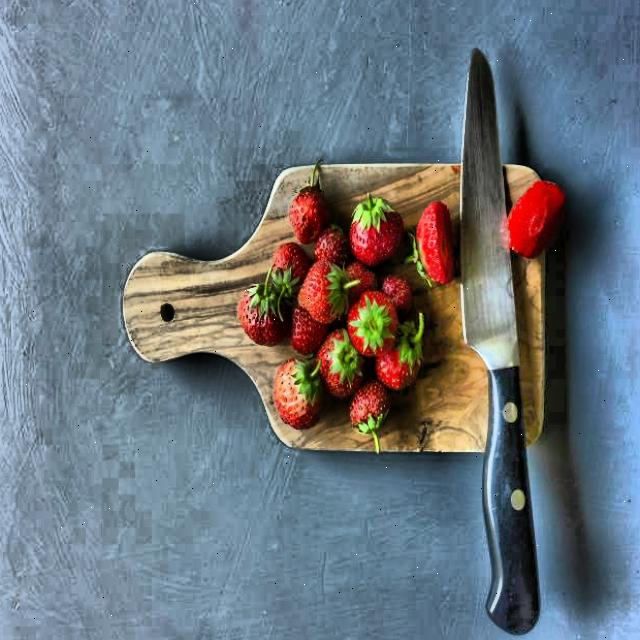knife: (456, 43, 558, 640)
